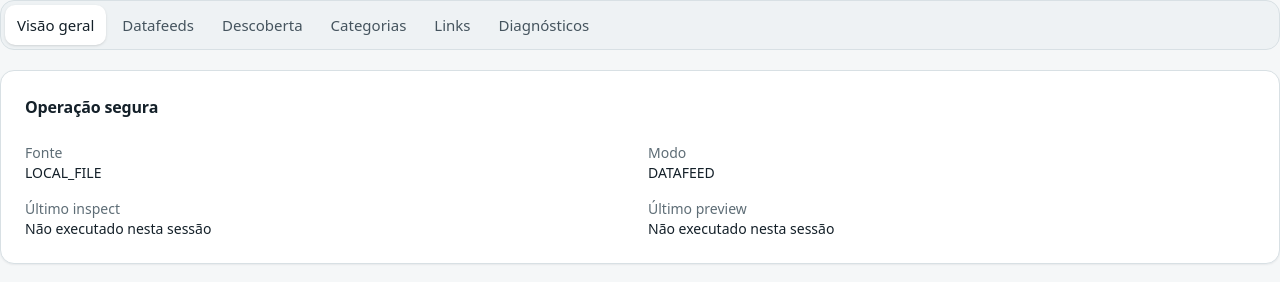
Test: ShopeeDatafeedConsole › displays the fail-closed Open API state
The image size is (1280, 282).
(page scrolled)
What coordinates should you click on to do the following:
click the tab "Links"
I would click on:
 (452, 25)
Its box is top-left (422, 5), bottom-right (482, 45).
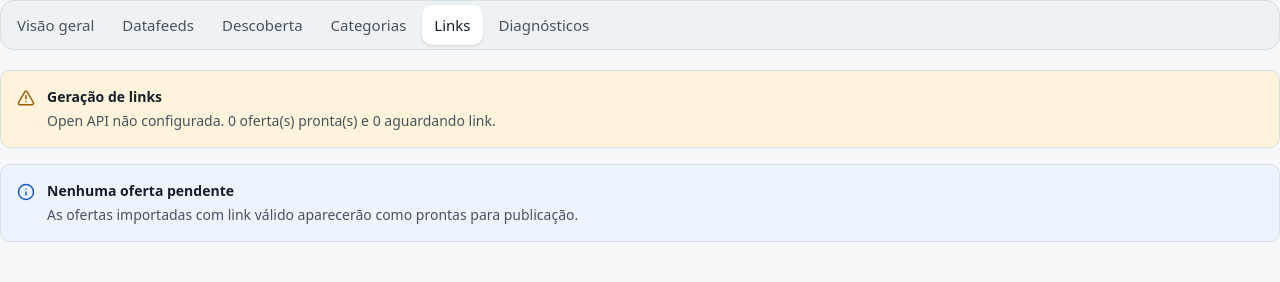
expect the text "Geração de links" is shown: met, box top-left (47, 87), bottom-right (162, 106)
expect the text "Open API não configurada" is shown: met, box top-left (47, 111), bottom-right (496, 131)
expect the text "Nenhuma oferta pendente" is shown: met, box top-left (47, 181), bottom-right (234, 200)
